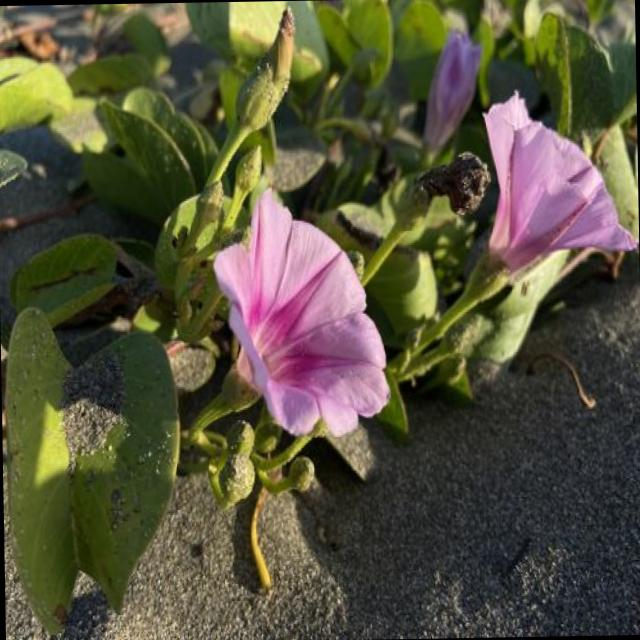ipomoea: (208, 183, 394, 446), (473, 85, 638, 286)
